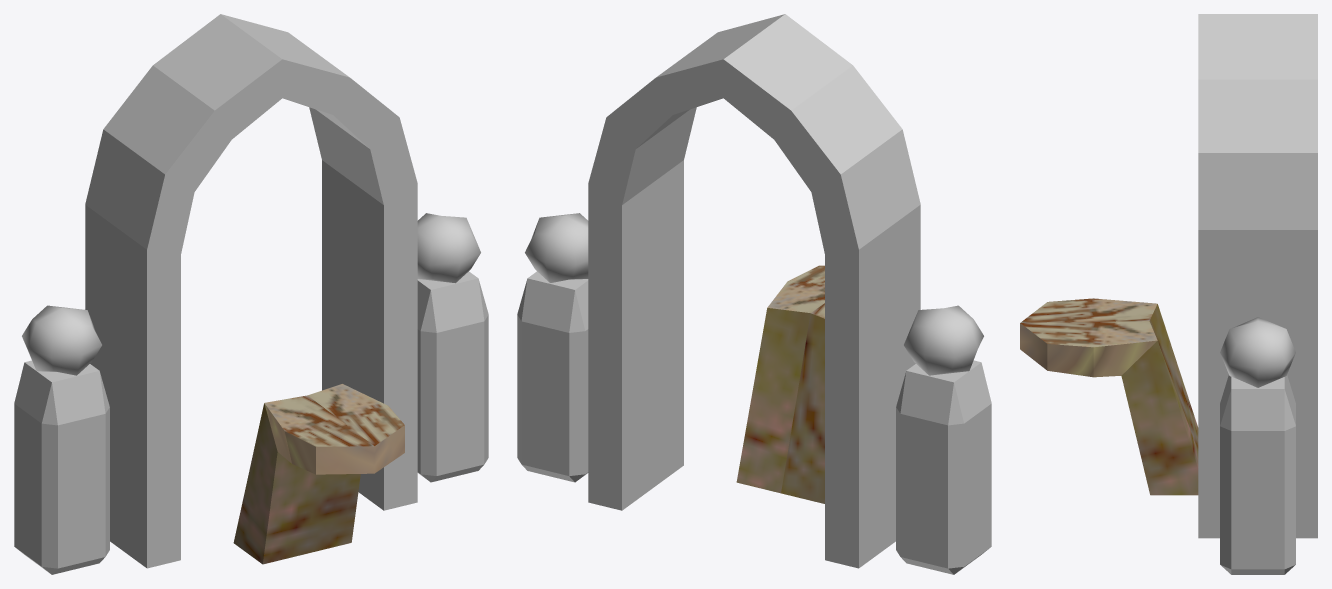
File: gate.fbx
The picture shows the model from 3 angles, left to right: view 1: azimuth 30°, elevation 25°; view 2: azimuth 150°, elevation 25°; view 3: azimuth 270°, elevation 25°; orthographic projection. The views are drawn at different scales.
Visible parts, largest first — view 1: door, pillars, hand; view 2: door, pillars, hand; view 3: door, pillars, hand.
Boxes of the visible parts, x1,y1,x2,y2 form: door: [85, 14, 417, 568]; pillars: [14, 213, 488, 574]; hand: [233, 384, 404, 564]; door: [588, 14, 920, 568]; pillars: [517, 213, 991, 574]; hand: [736, 265, 824, 503]; door: [1198, 14, 1317, 538]; pillars: [1220, 317, 1295, 574]; hand: [1020, 298, 1198, 495].
Size of the model in its own units: 3.3 by 3.36 by 1.97.
